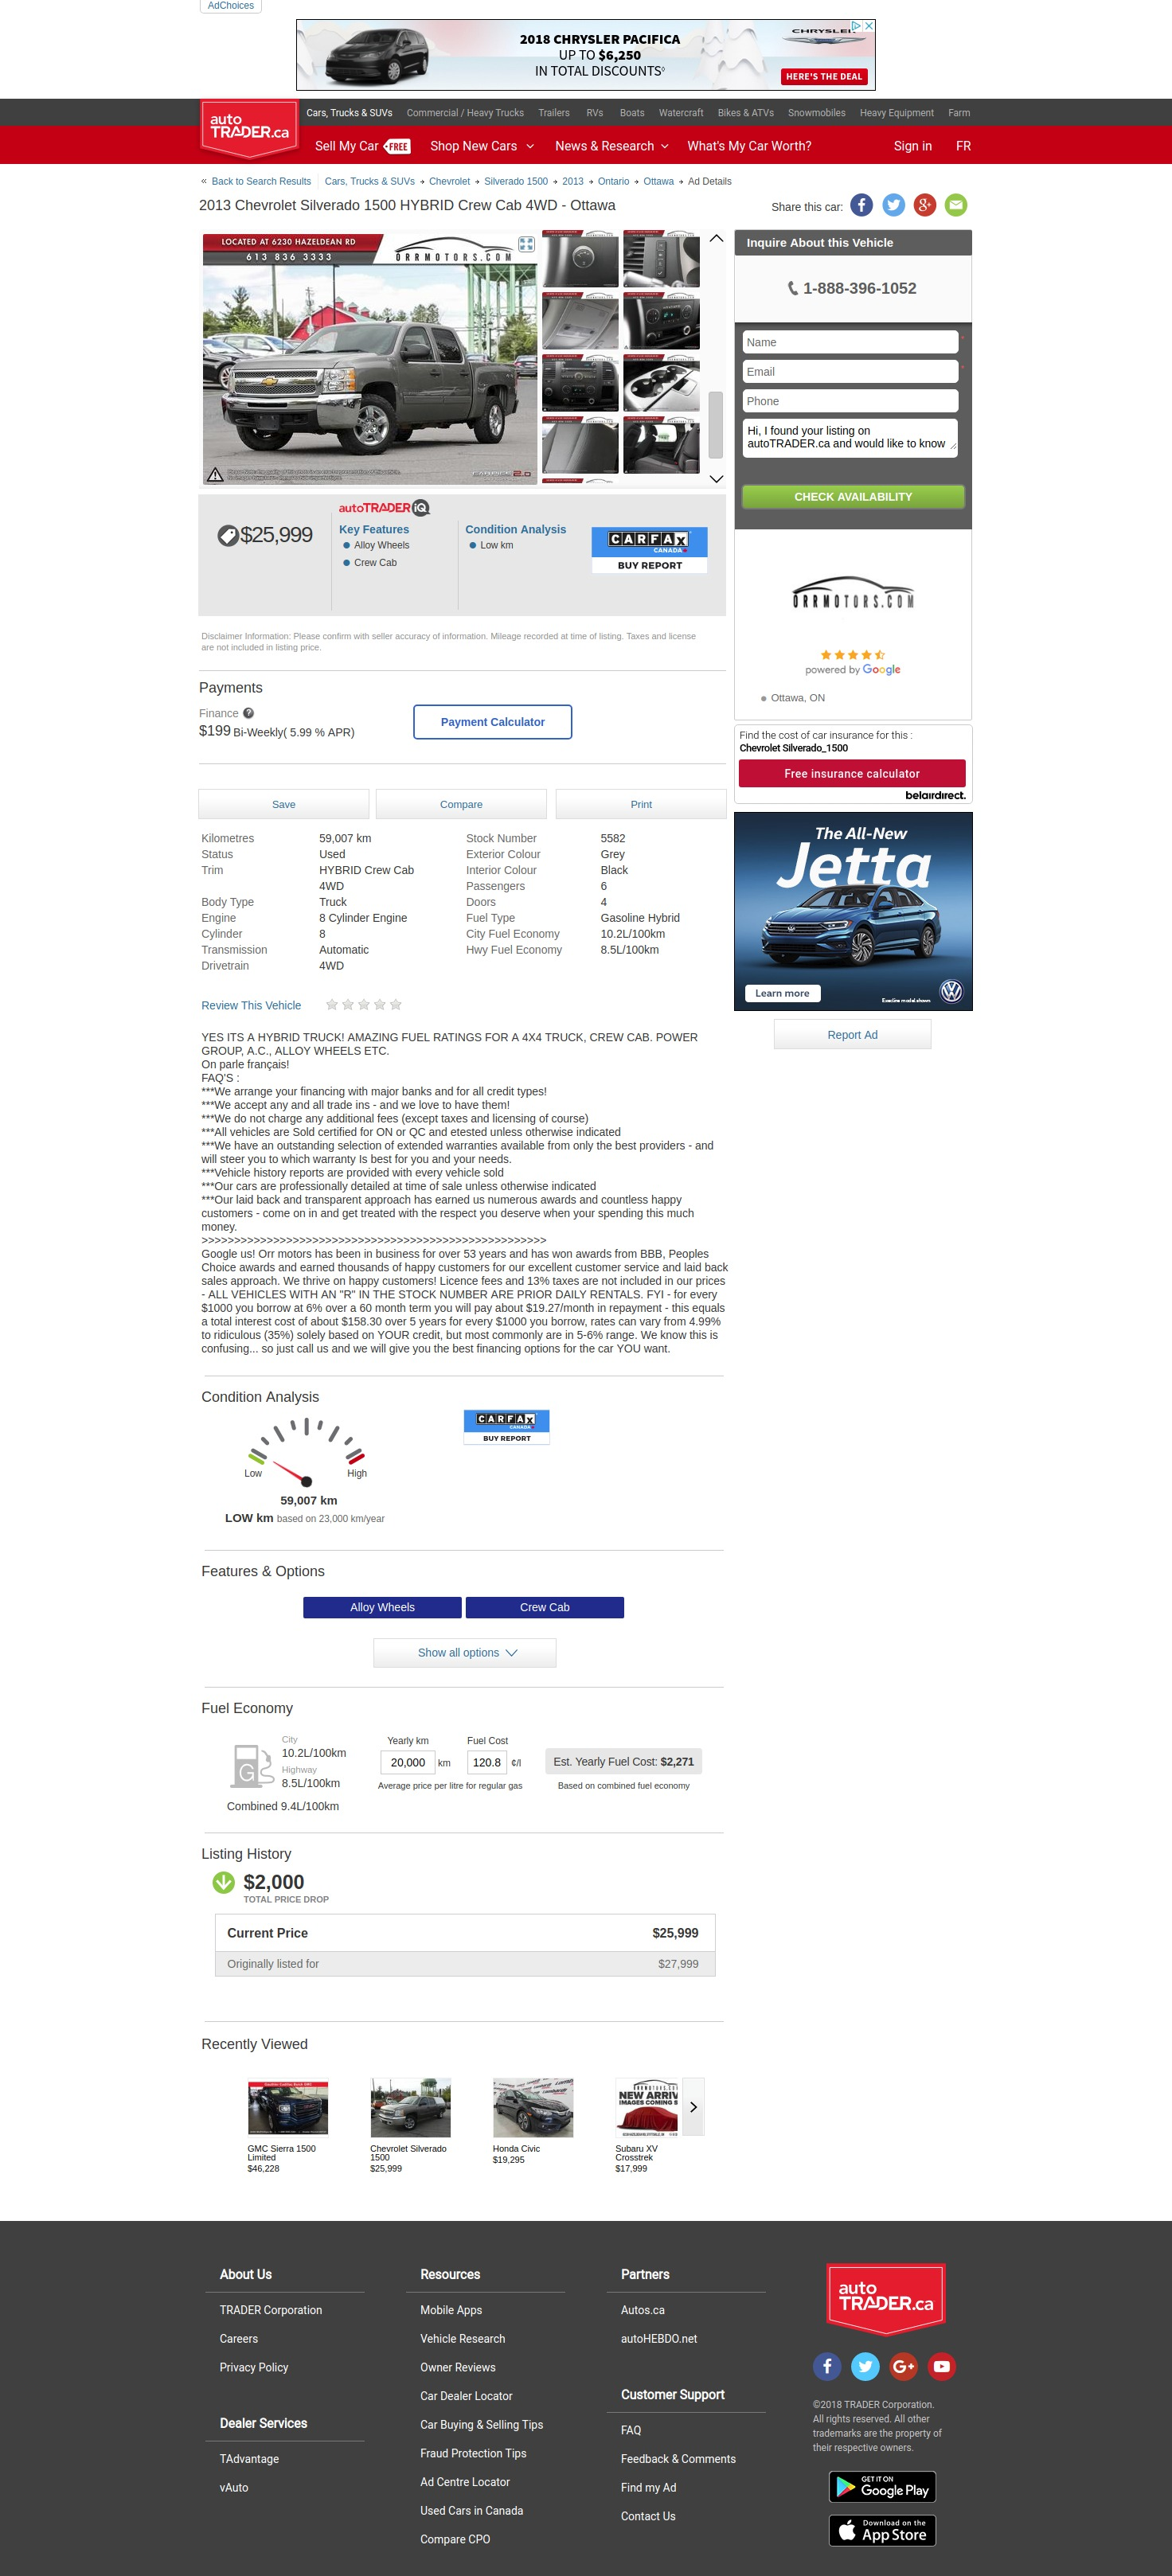car: (710, 475, 723, 485)
